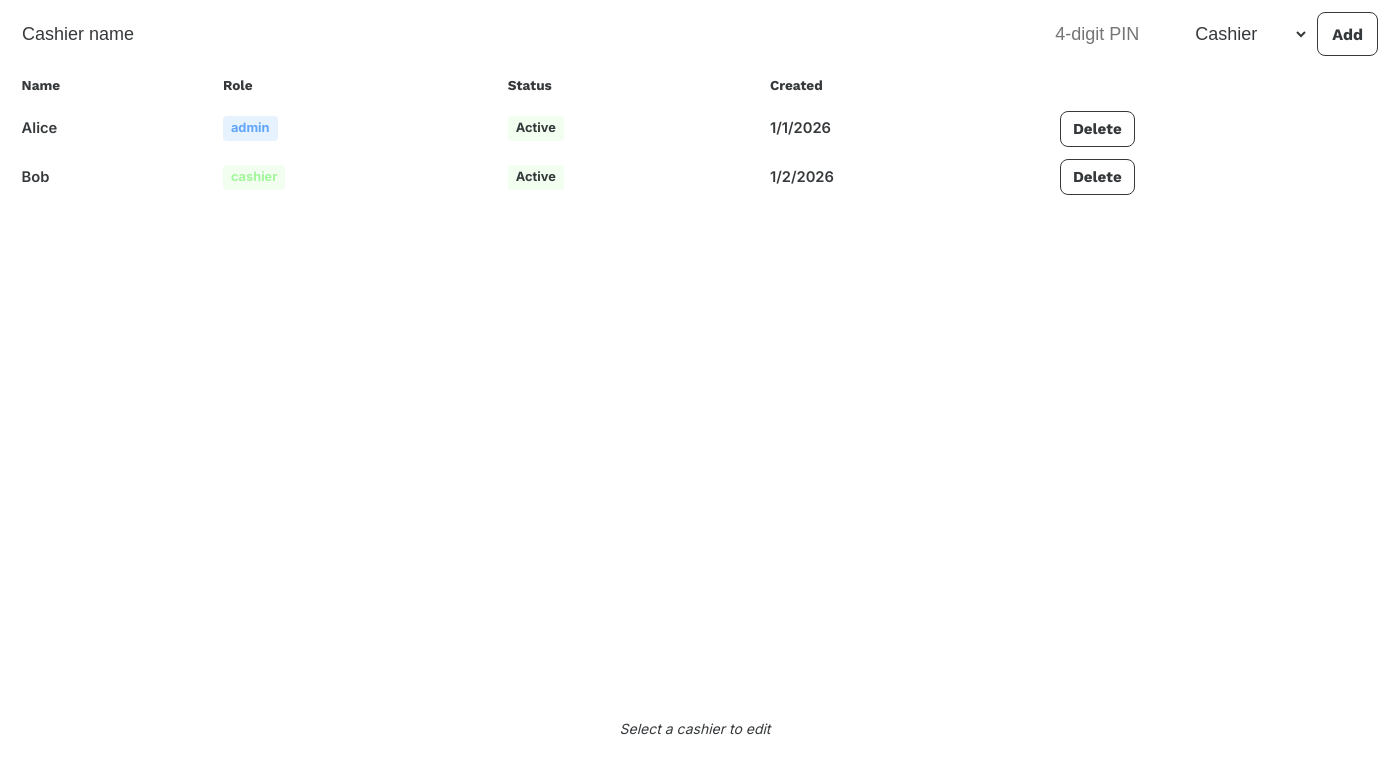
Test: CashierPanel › allows selecting a cashier row for editing
The image size is (1390, 780).
Expected: the text "Alice" is shown, [12, 104, 213, 153]
Click the text "Alice" at (39, 128), box [12, 104, 1378, 153]
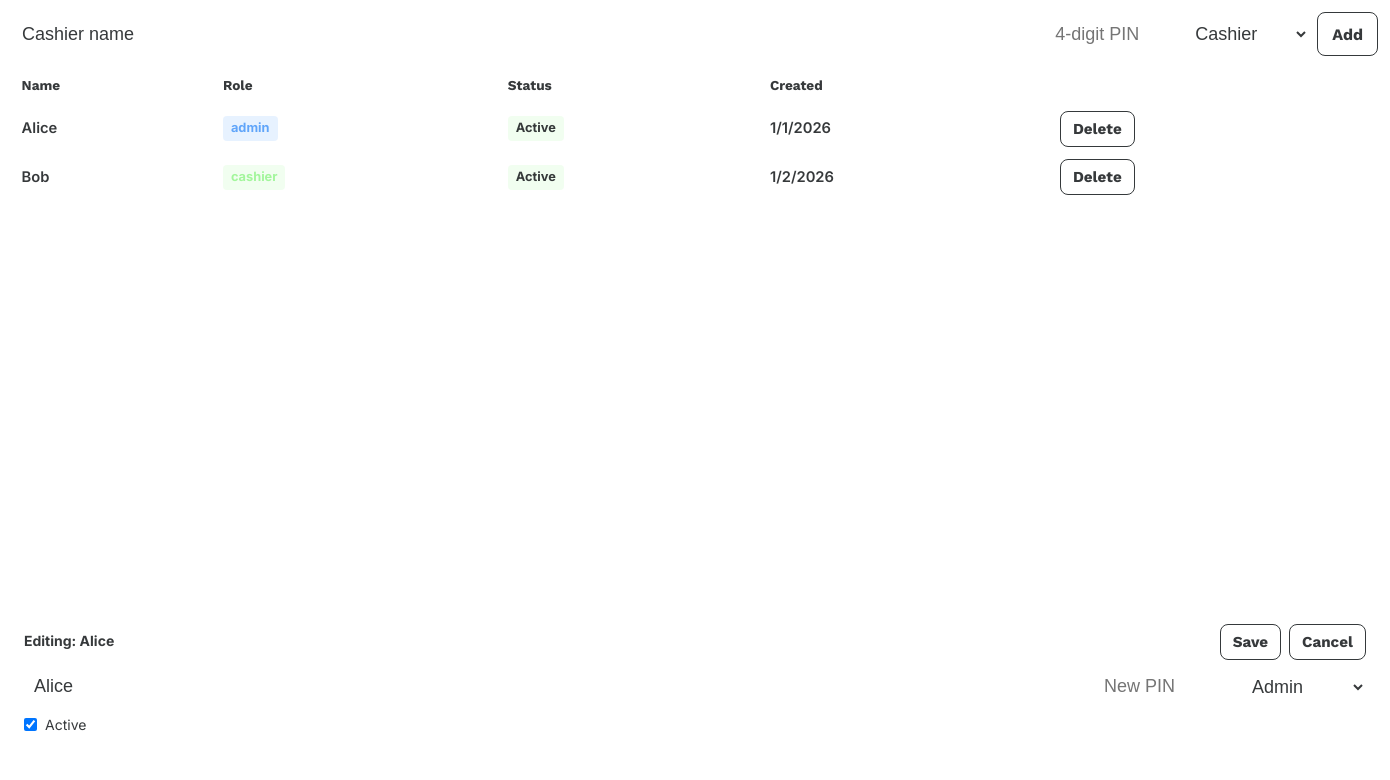
Result: the field showing "Alice" is shown at [24, 668, 1078, 705]
